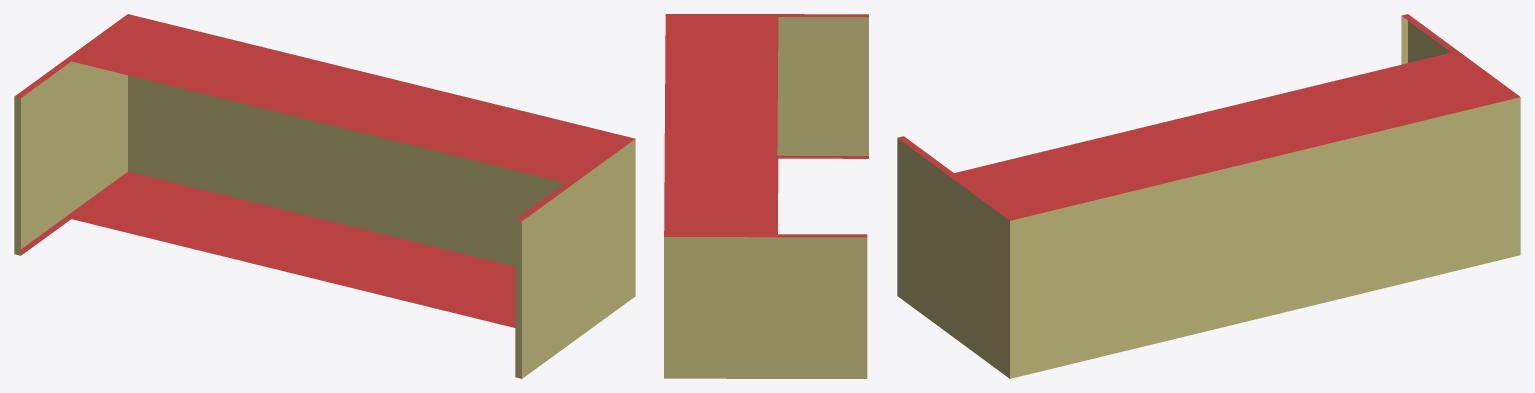
The picture shows the model from 3 angles, left to right: view 1: azimuth 30°, elevation 25°; view 2: azimuth 150°, elevation 25°; view 3: azimuth 270°, elevation 25°; orthographic projection. The views are drawn at different scales.
Bounding box in the file's own units: 15.84 × 20.18 × 5.64.
